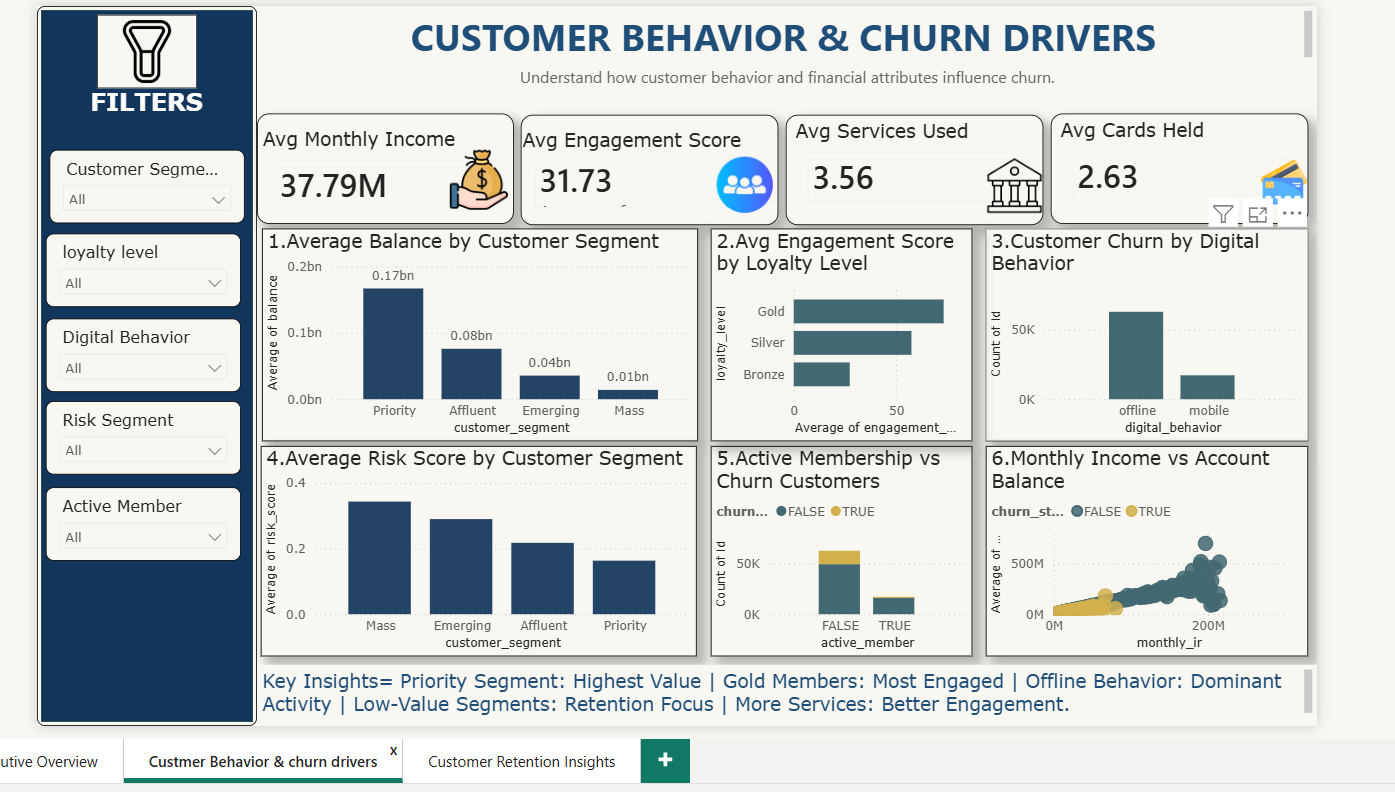

The page's visual inventory and layout, read from the dashboard file:
{"tool":"powerbi","page":{"name":"Custmer Behavior & churn drivers","canvas":[1280,720],"ordinal":1},"visuals":[{"type":"textbox","box":[219.6,0,1060.5,65.1],"z":0},{"type":"shape","box":[0,0,220,720],"z":1000},{"type":"textbox","box":[219.6,55.5,1060.5,32.6],"z":2000},{"type":"textbox","box":[16.7,76.7,186.7,44.4],"z":3000},{"type":"image","box":[60,8.9,100,73.3],"z":4000},{"type":"slicer","title":"Customer Segment","fields":{"Values":["banking_analysis churn_analysis.customer_segment"]},"box":[12.1,143.6,195.4,73.6],"z":5000},{"type":"slicer","title":"Customer Segment","fields":{"Values":["banking_analysis churn_analysis.loyalty_level"]},"box":[8.4,228,195.4,73.6],"z":6000},{"type":"slicer","title":"Customer Segment","fields":{"Values":["banking_analysis churn_analysis.digital_behavior"]},"box":[8.4,312.5,195.4,73.6],"z":7000},{"type":"slicer","title":"Customer Segment","fields":{"Values":["banking_analysis churn_analysis.risk_segment"]},"box":[8.4,394.5,195.4,73.6],"z":8000},{"type":"slicer","title":"Customer Segment","fields":{"Values":["banking_analysis churn_analysis.risk_segment"]},"box":[8.4,481.4,195.4,73.6],"z":9000},{"type":"cardVisual","title":"Avg Monthly Income","fields":{"Data":["Avg(banking_analysis churn_analysis.monthly_ir)"]},"box":[220,107.5,257,110],"z":10000},{"type":"cardVisual","title":"Avg Engagement Score","fields":{"Data":["Avg(banking_analysis churn_analysis.engagement_score)"]},"box":[484.2,108.8,257.5,110],"z":11000},{"type":"cardVisual","title":"Avg  Services Used","fields":{"Data":["Avg(banking_analysis churn_analysis.nums_service)"]},"box":[749,108.8,257.5,110],"z":12000},{"type":"cardVisual","title":"Avg  Cards Held","fields":{"Data":["Avg(banking_analysis churn_analysis.nums_card)"]},"box":[1013.8,107.5,257.5,110],"z":13000},{"type":"image","box":[406.2,143.8,71.2,60],"z":14000},{"type":"image","box":[948.8,150,57.5,58.8],"z":15000},{"type":"image","box":[1222.5,135,48.8,82.5],"z":16000},{"type":"image","box":[673.8,148.8,67.5,60],"z":17000},{"type":"clusteredColumnChart","title":"1.Average Balance by Customer Segment","fields":{"Y":["Avg(banking_analysis churn_analysis.balance)"],"Category":["banking_analysis churn_analysis.customer_segment"]},"box":[225,222.5,436.2,212.5],"z":18000},{"type":"columnChart","title":"3.Customer Churn by Digital Behavior","fields":{"Category":["banking_analysis churn_analysis.digital_behavior"],"Y":["CountNonNull(banking_analysis churn_analysis.id)"]},"box":[948.8,222.5,322.5,212.5],"z":19000},{"type":"clusteredColumnChart","title":"4.Average Risk Score by Customer Segment","fields":{"Category":["banking_analysis churn_analysis.customer_segment"],"Y":["Avg(banking_analysis churn_analysis.risk_score)"]},"box":[223.8,440,436.2,210],"z":20000},{"type":"columnChart","title":"5.Active Membership vs Churn Customers","fields":{"Series":["banking_analysis churn_analysis.churn_status"],"Category":["banking_analysis churn_analysis.active_member"],"Y":["CountNonNull(banking_analysis churn_analysis.id)"]},"box":[673.8,440,261.2,210],"z":21000},{"type":"scatterChart","title":"6.Monthly Income vs Account Balance","fields":{"Y":["Avg(banking_analysis churn_analysis.balance)"],"Series":["banking_analysis churn_analysis.churn_status"],"X":["banking_analysis churn_analysis.monthly_ir"]},"box":[948.8,440,322.5,210],"z":22000},{"type":"clusteredBarChart","title":"2.Avg Engagement Score by Loyalty Level","fields":{"Y":["Avg(banking_analysis churn_analysis.engagement_score)"],"Category":["banking_analysis churn_analysis.loyalty_level"]},"box":[673.8,222.5,261.2,212.5],"z":23000},{"type":"textbox","box":[220,658.8,1060,61.2],"z":24000}]}

Visuals, with their boxes on the page's 1280x720 design canvas (x1, y1, x2, y2). These are canvas units, not pixel positions in the 1395x792 screenshot, which may show the page scaled, cropped or inside an application window:
textbox: <box>220,0,1280,65</box>
shape: <box>0,0,220,720</box>
textbox: <box>220,56,1280,88</box>
textbox: <box>17,77,203,121</box>
image: <box>60,9,160,82</box>
"Customer Segment" slicer: <box>12,144,208,217</box>
"Customer Segment" slicer: <box>8,228,204,302</box>
"Customer Segment" slicer: <box>8,312,204,386</box>
"Customer Segment" slicer: <box>8,394,204,468</box>
"Customer Segment" slicer: <box>8,481,204,555</box>
"Avg Monthly Income" cardVisual: <box>220,108,477,218</box>
"Avg Engagement Score" cardVisual: <box>484,109,742,219</box>
"Avg  Services Used" cardVisual: <box>749,109,1006,219</box>
"Avg  Cards Held" cardVisual: <box>1014,108,1271,218</box>
image: <box>406,144,477,204</box>
image: <box>949,150,1006,209</box>
image: <box>1222,135,1271,218</box>
image: <box>674,149,741,209</box>
"1.Average Balance by Customer Segment" clusteredColumnChart: <box>225,222,661,435</box>
"3.Customer Churn by Digital Behavior" columnChart: <box>949,222,1271,435</box>
"4.Average Risk Score by Customer Segment" clusteredColumnChart: <box>224,440,660,650</box>
"5.Active Membership vs Churn Customers" columnChart: <box>674,440,935,650</box>
"6.Monthly Income vs Account Balance" scatterChart: <box>949,440,1271,650</box>
"2.Avg Engagement Score by Loyalty Level" clusteredBarChart: <box>674,222,935,435</box>
textbox: <box>220,659,1280,720</box>
